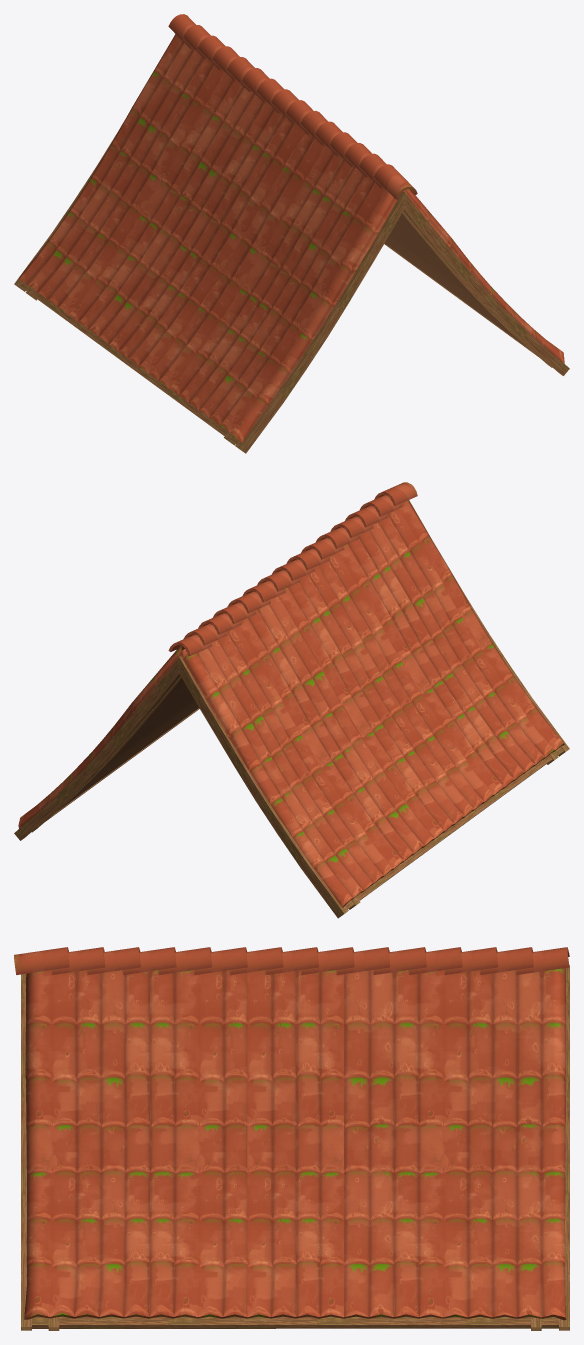
File: roof-qm-roofroundtiles8x10.glb
3 renders of one model, top to bottom at view 1: azimuth 30°, elevation 25°; view 2: azimuth 150°, elevation 25°; view 3: azimuth 270°, elevation 25°, orthographic. The views are drawn at different scales.
Parts seen in each view (by area): view 1: Cube_066; view 2: Cube_066; view 3: Cube_066.
Boxes of the visible parts, x1,y1,x2,y2 form: Cube_066: [14, 14, 569, 453]; Cube_066: [14, 482, 569, 918]; Cube_066: [14, 947, 569, 1330].
Bounding box in the file's own units: 9.95 × 6.78 × 11.86.
2 materials, 2 textured.
